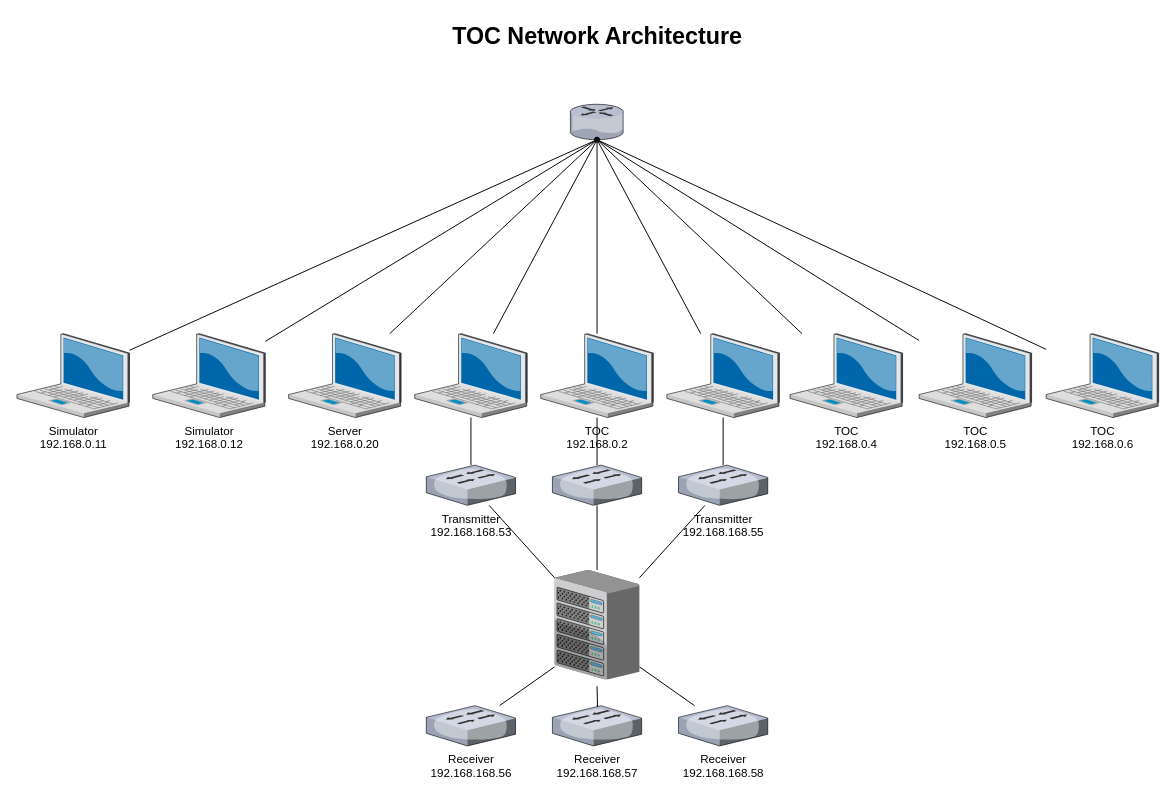
Image size: 1175x797. Some labels were removed from this diagram. The centre of each missing label's shape, as x and y in pixels:
Matrix switch: [596,624]
TOC 192.168.0.1: [470,375]
TOC 192.168.0.3: [722,375]
Transmitter 192.168.168.54: [596,485]
